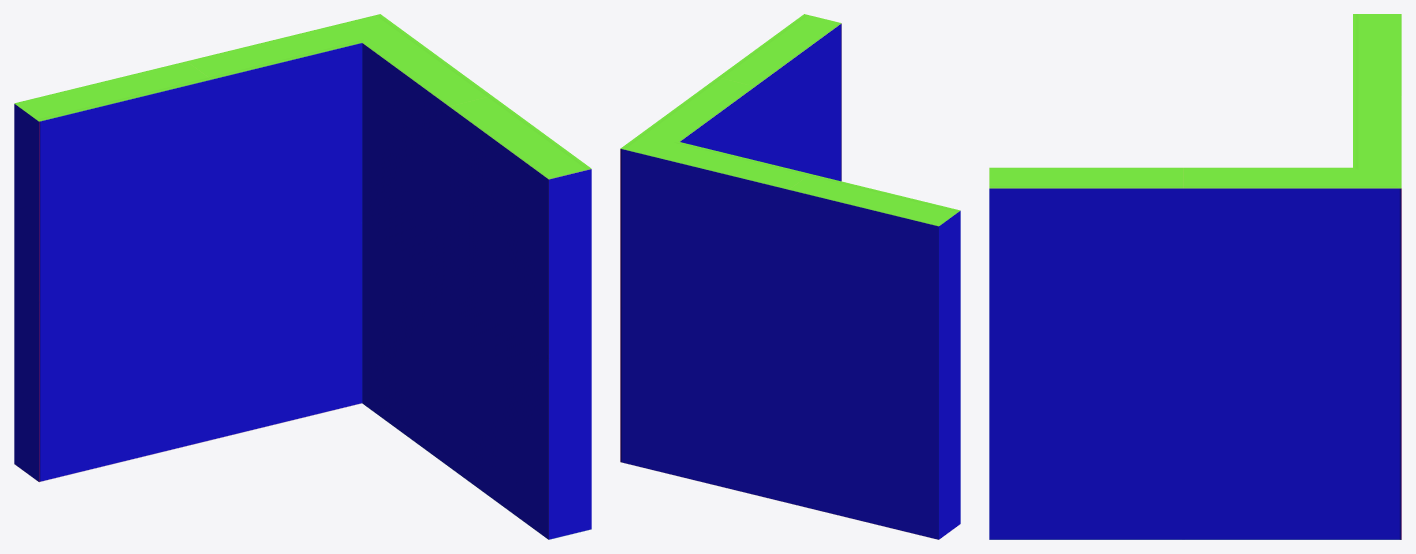
Rendered from MK_MK_Wall_Corner_In_E.fbx.
The picture shows the model from 3 angles, left to right: view 1: azimuth 30°, elevation 25°; view 2: azimuth 150°, elevation 25°; view 3: azimuth 270°, elevation 25°; orthographic projection. The views are drawn at different scales.
Parts seen in each view (by area): view 1: MK_Wall_Corner_In_E; view 2: MK_Wall_Corner_In_E; view 3: MK_Wall_Corner_In_E.
Boxes of the visible parts, x1,y1,x2,y2 form: MK_Wall_Corner_In_E: [14, 14, 591, 539]; MK_Wall_Corner_In_E: [620, 14, 960, 539]; MK_Wall_Corner_In_E: [989, 14, 1401, 539].
Bounding box in the file's own units: 191 × 180 × 191.
1 material, 1 textured.
